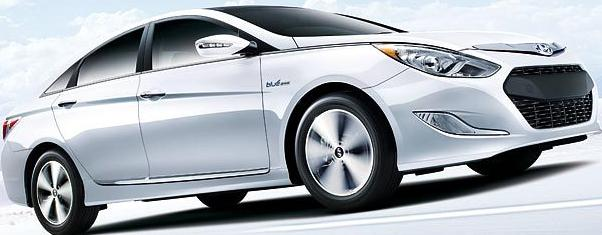front_view: (368, 32, 602, 175)
headlight: (368, 37, 502, 82)
side_glass: (40, 21, 279, 97)
